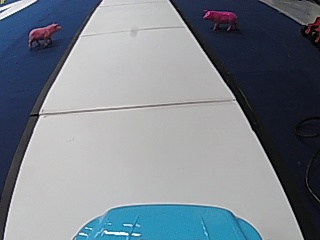pig: (25, 20, 60, 49), (200, 7, 238, 31)
tractor: (301, 16, 319, 47)
